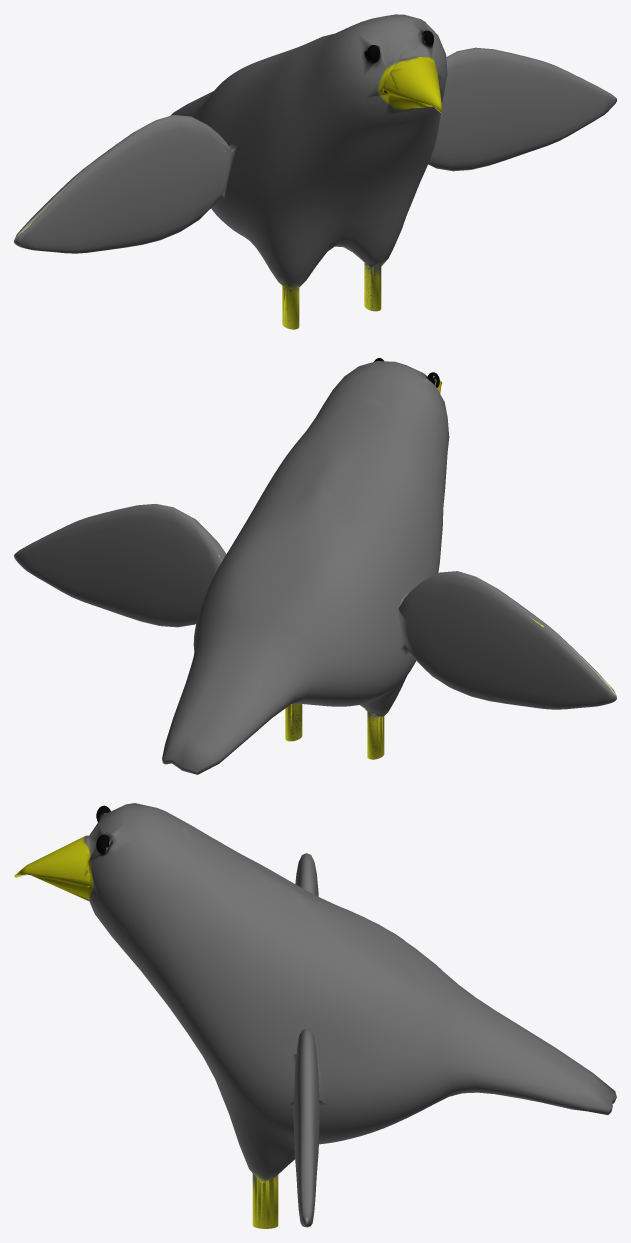
File: birdWithColor.fbx
The picture shows the model from 3 angles, top to bottom: view 1: azimuth 30°, elevation 25°; view 2: azimuth 150°, elevation 25°; view 3: azimuth 270°, elevation 25°; orthographic projection. The views are drawn at different scales.
Parts seen in each view (by area): view 1: Pigeon; view 2: Pigeon; view 3: Pigeon.
Boxes of the visible parts, box(x1,y1,x2,y2) form: Pigeon: box(14, 14, 616, 329); Pigeon: box(14, 358, 616, 774); Pigeon: box(14, 803, 616, 1228).
Bounding box in the file's own units: 483 × 260 × 363.
1 material, 1 textured.
